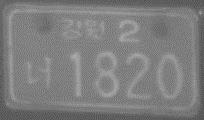0: (157, 54, 183, 98)
1: (66, 53, 89, 97)
2: (124, 52, 152, 100), (118, 18, 140, 44)
8: (93, 51, 119, 98)
강원_O: (60, 17, 105, 43)
너: (25, 57, 53, 88)
